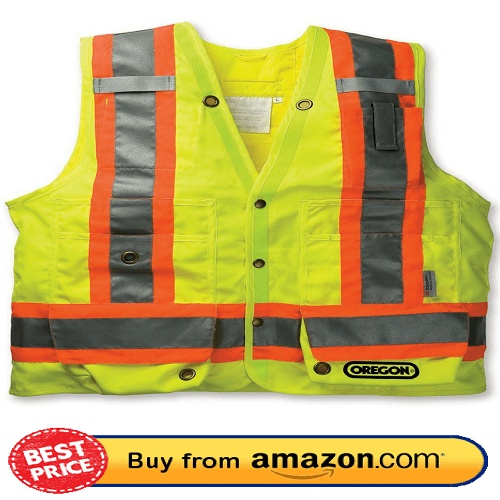safety vest: (3, 25, 487, 398)
